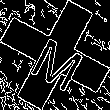M_NE: (23, 22, 87, 88)
